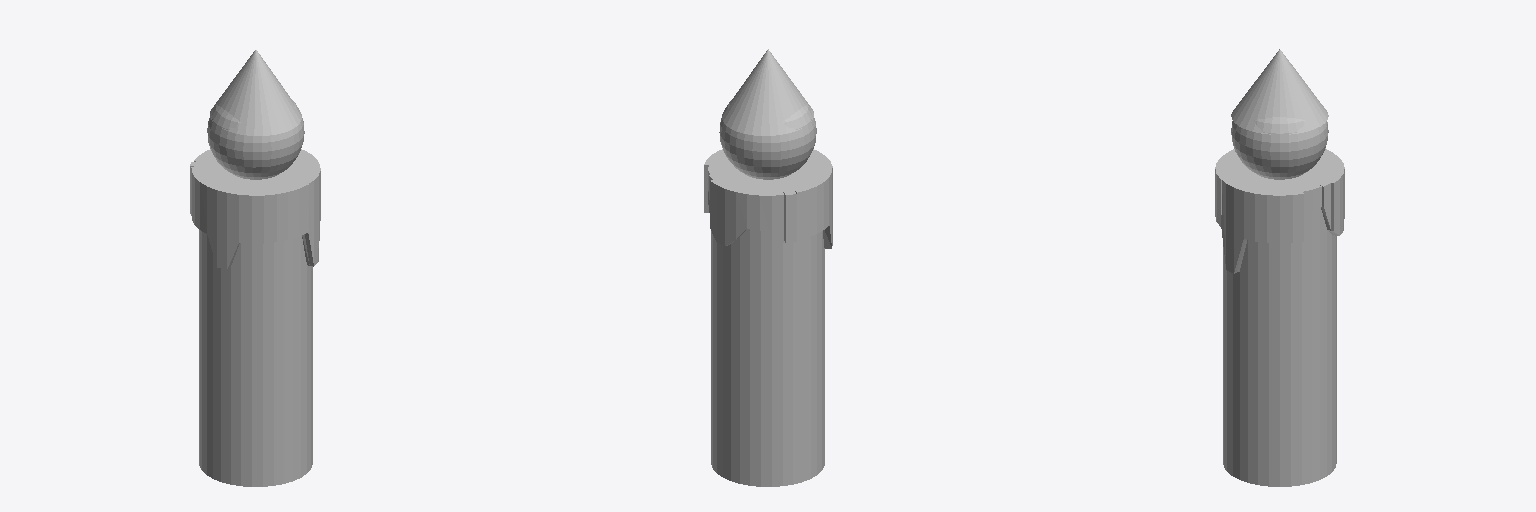
File: Candle_Topping.obj
3 renders of one model, left to right at view 1: azimuth 30°, elevation 25°; view 2: azimuth 150°, elevation 25°; view 3: azimuth 270°, elevation 25°, orthographic.
Visible parts, largest first — view 1: Sphere.001; view 2: Sphere.001; view 3: Sphere.001.
Part boxes in pixels (bbox=[...]): Sphere.001: bbox=[190, 50, 320, 486]; Sphere.001: bbox=[704, 49, 832, 486]; Sphere.001: bbox=[1215, 49, 1344, 486].
Size of the model in its own units: 1.59 by 5.62 by 1.59.